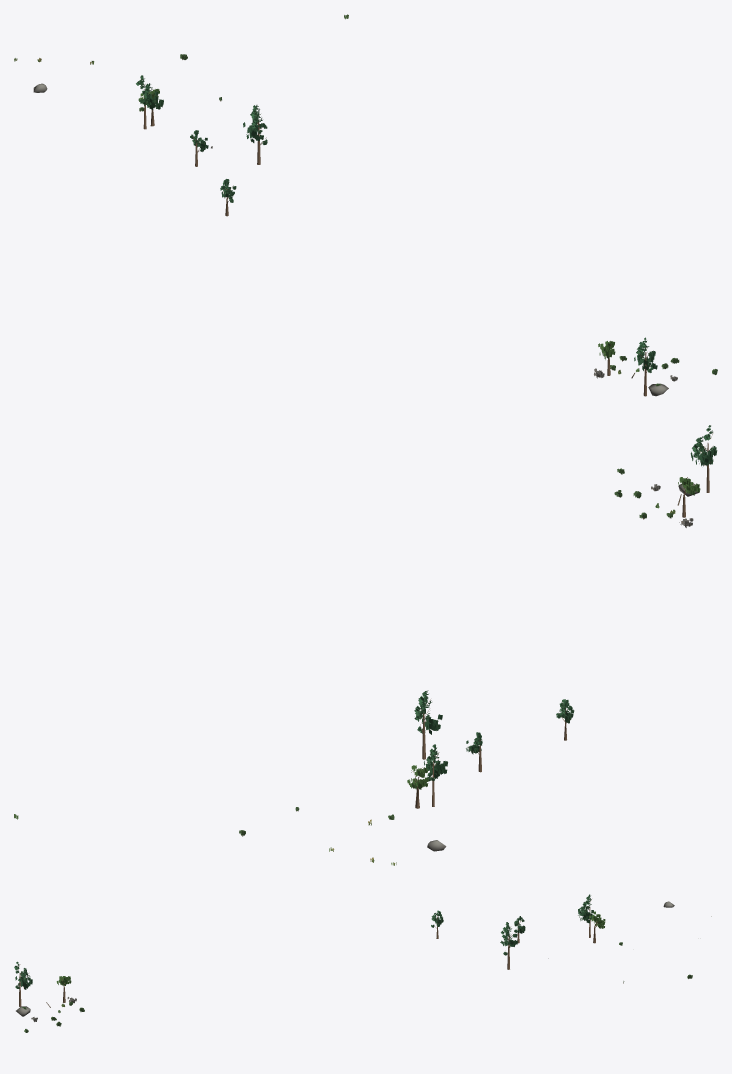
The model's file is arch_land_scatter_c21_20.glb.
The picture shows the model from 3 angles, top to bottom: view 1: azimuth 30°, elevation 25°; view 2: azimuth 150°, elevation 25°; view 3: azimuth 270°, elevation 25°; orthographic projection. The views are drawn at different scales.
Visible parts, largest first — view 1: arch_land_scatter_c21_20; view 2: arch_land_scatter_c21_20; view 3: arch_land_scatter_c21_20.
Part boxes in pixels (x1,y1,x2,y2): arch_land_scatter_c21_20: (14, 14, 717, 396); arch_land_scatter_c21_20: (14, 425, 717, 865); arch_land_scatter_c21_20: (14, 894, 711, 1032).
Bounding box in the file's own units: 89.44 × 20.99 × 204.
